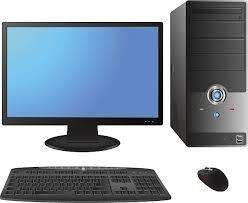keyboard: (0, 165, 178, 203)
monitor: (2, 18, 167, 158)
mouse: (196, 165, 233, 195)
pc: (165, 0, 248, 155)
